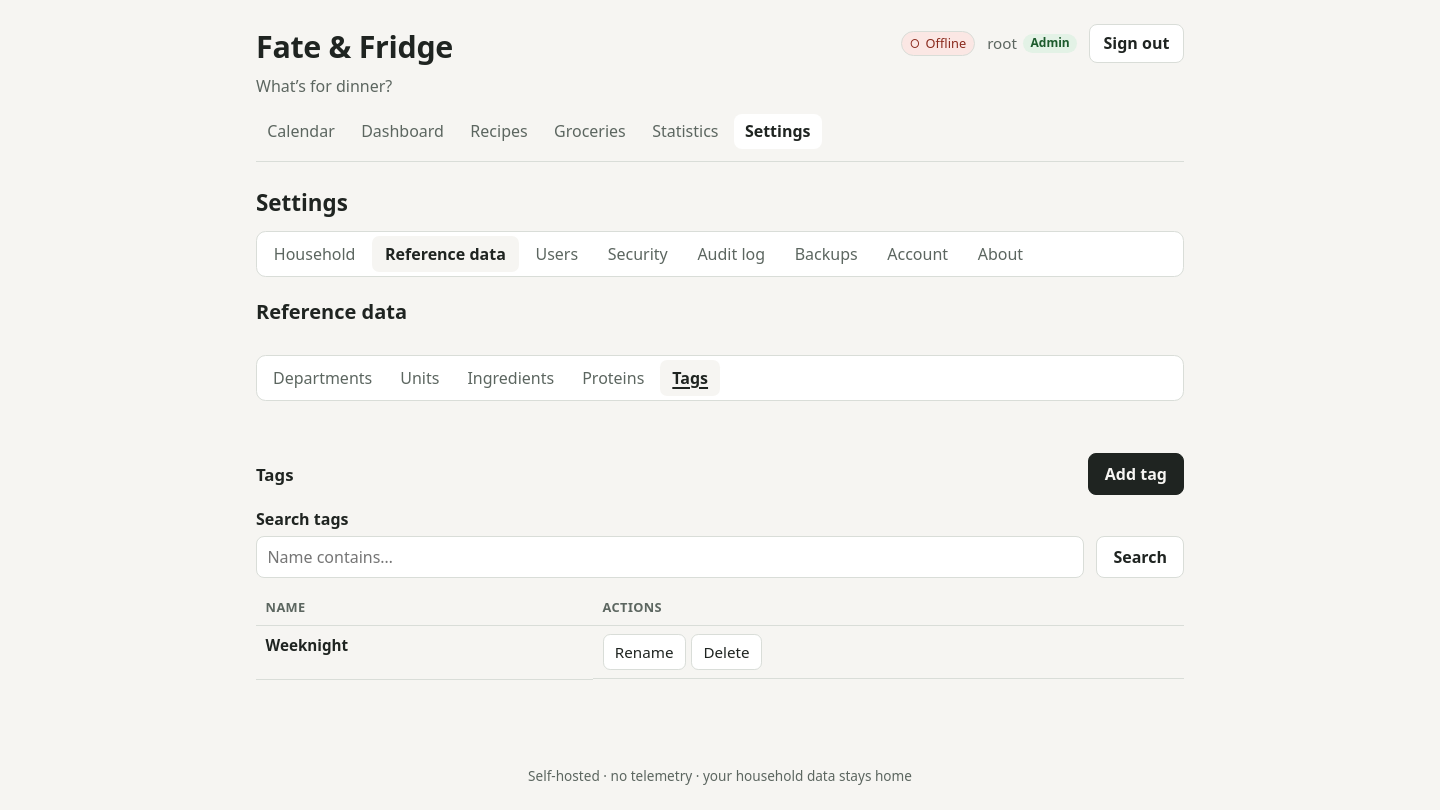
tags tab › renames a tag through PATCH with the new name
This screenshot has width=1440, height=810.
Click the button with aria-label "Rename Weeknight" at (644, 652), box [603,634,686,670]
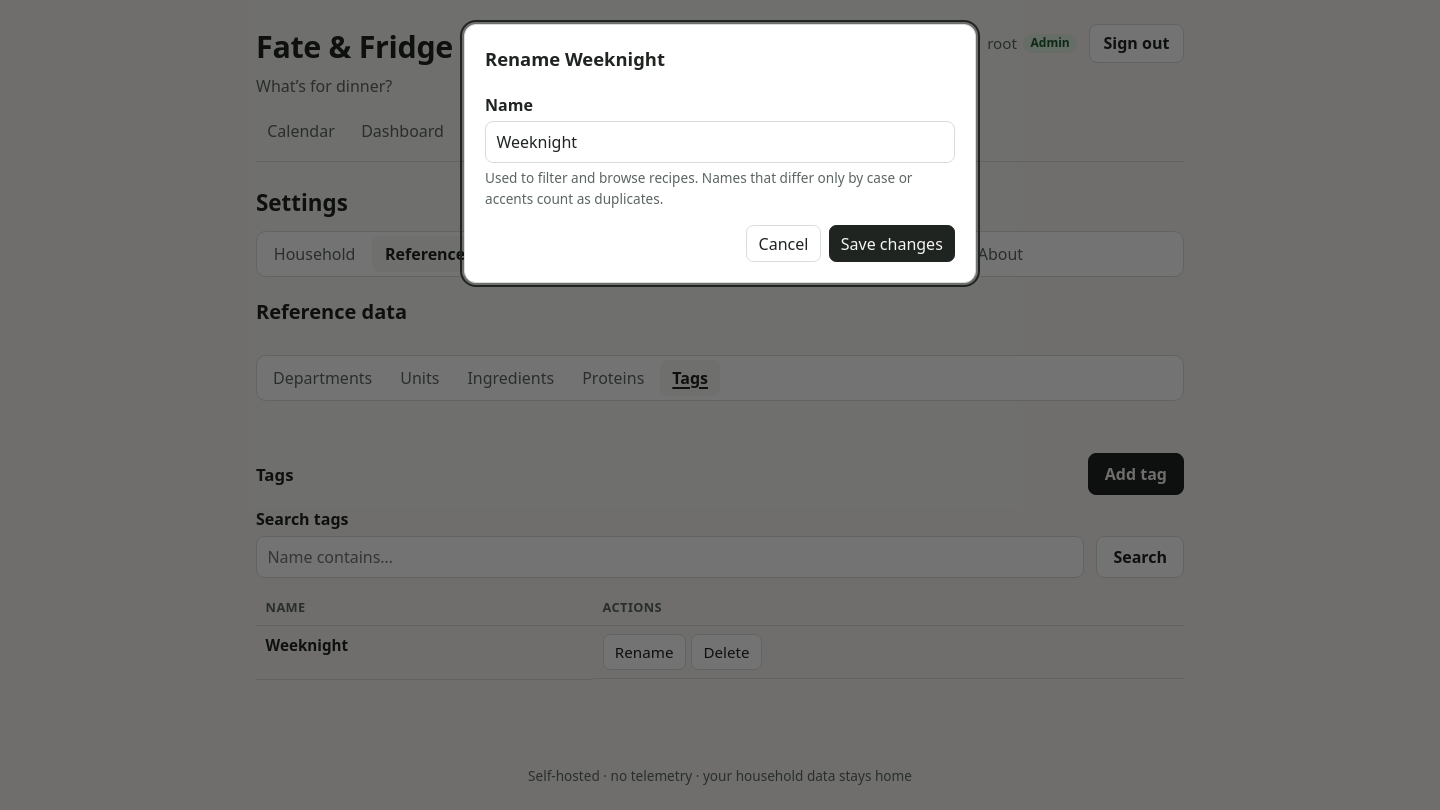
Result: the field labelled "Name" holds "Weeknight"
Replace the text in the field labelled "Name" with "Weeknight dinner" at (720, 142), box [485,121,955,163]
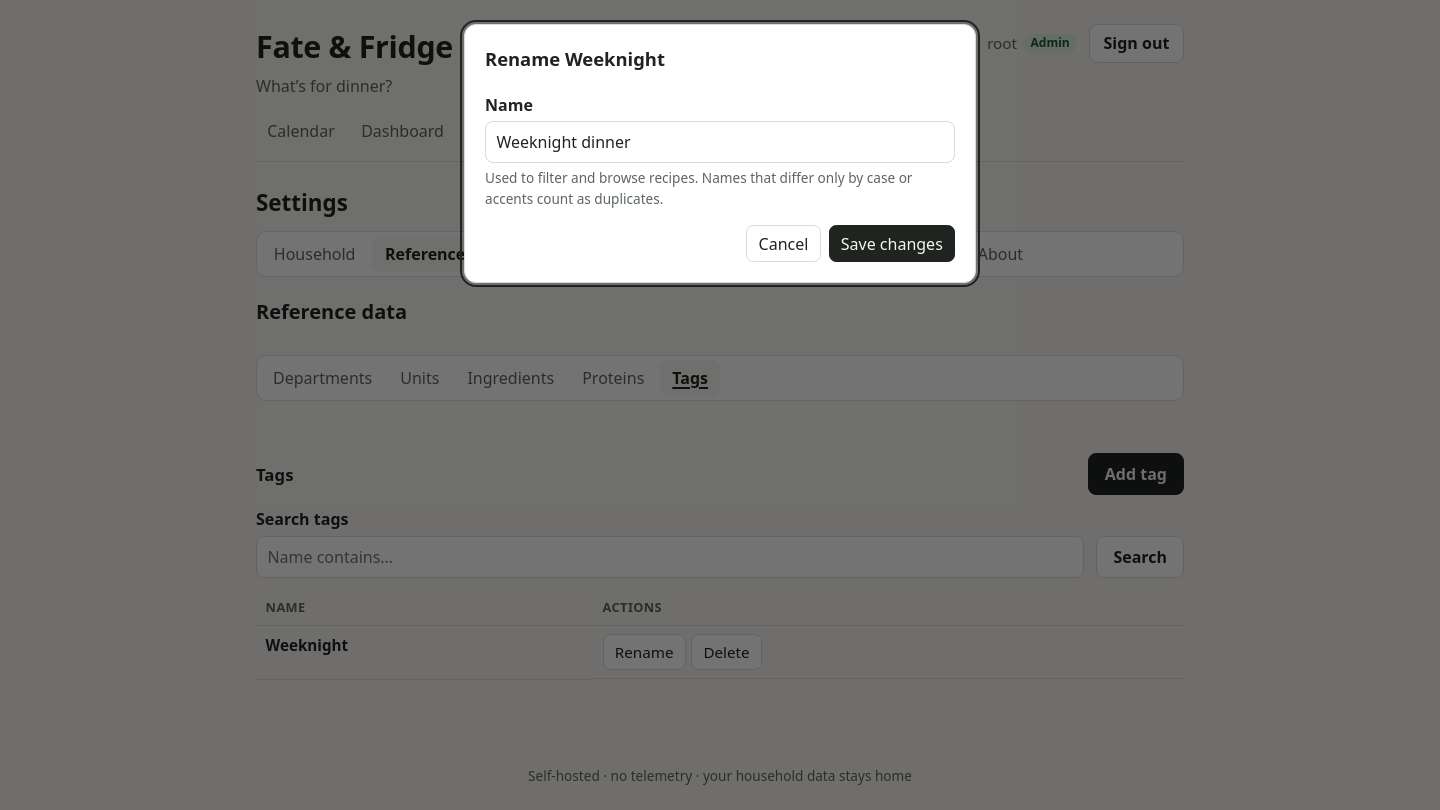
Click the button "Save changes" at (892, 244), box [829,225,955,262]
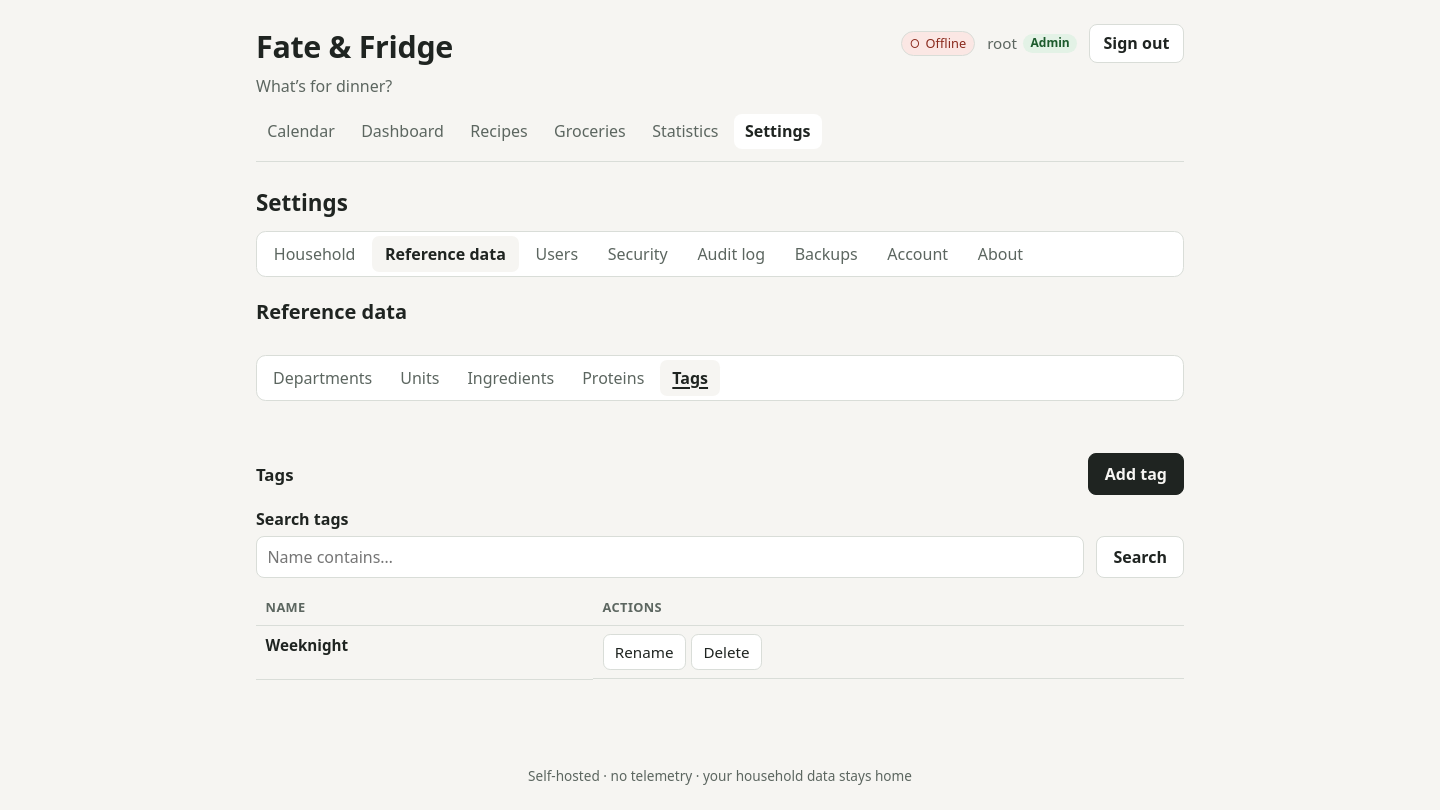
Result: the dialog is gone
